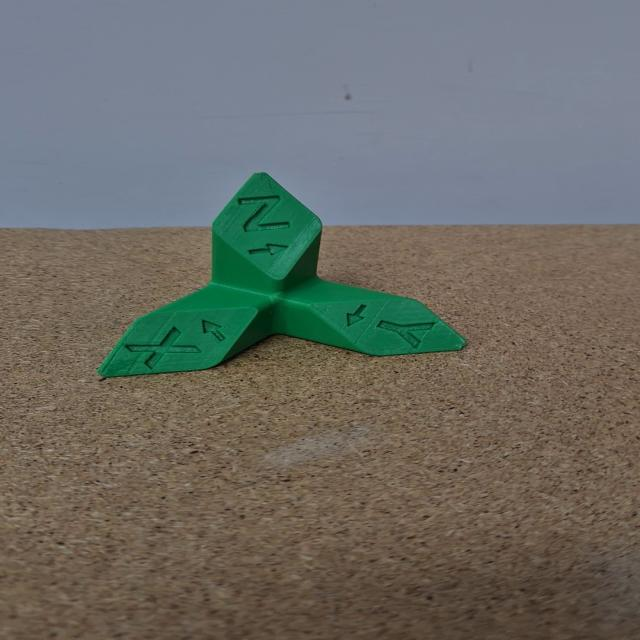objects: (89, 162, 476, 384)
